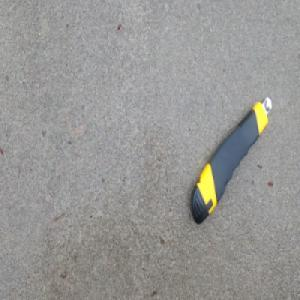Cutter: (190, 96, 273, 226)
